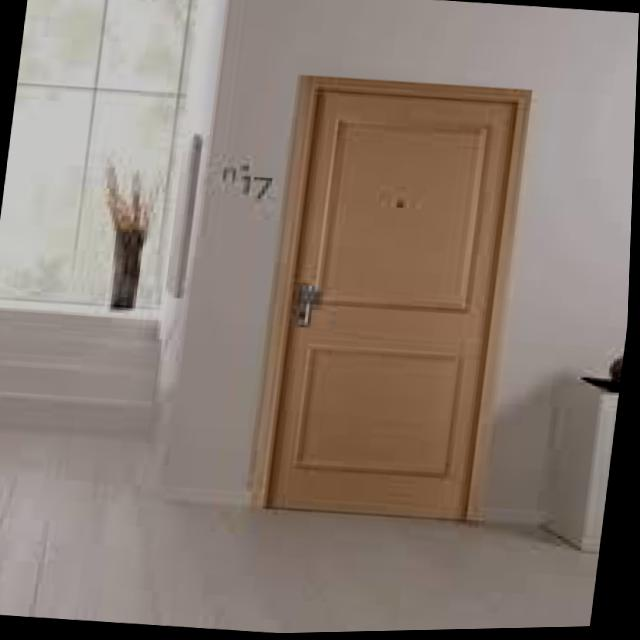close: (235, 53, 539, 548)
